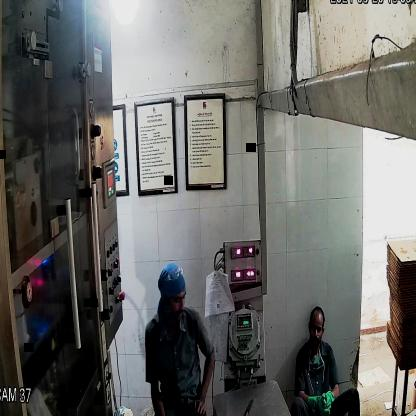no_goggles: (159, 287, 191, 309), (305, 320, 326, 340)
